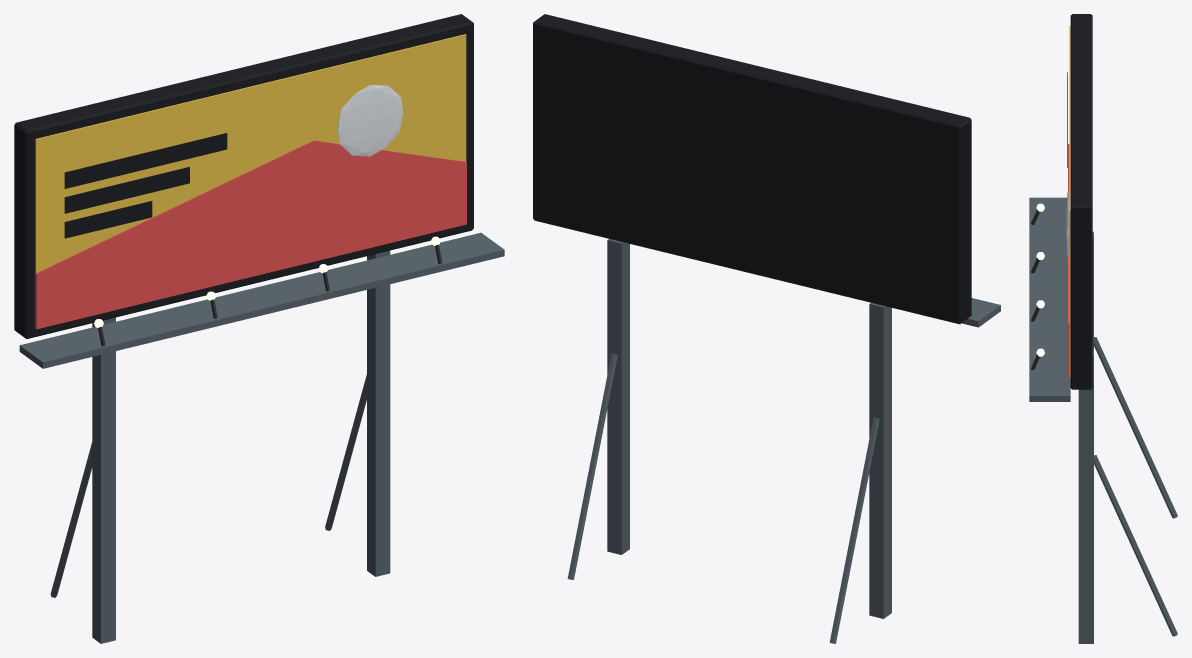
The model's file is billboard.glb.
3 renders of one model, left to right at view 1: azimuth 30°, elevation 25°; view 2: azimuth 150°, elevation 25°; view 3: azimuth 270°, elevation 25°, orthographic. The views are drawn at different scales.
Visible parts, largest first — view 1: billboard; view 2: billboard; view 3: billboard.
Part boxes in pixels (x1,y1,x2,y2): billboard: (14, 14, 504, 643); billboard: (533, 14, 1000, 643); billboard: (1029, 14, 1177, 643).
Size of the model in its own units: 7.4 by 8.2 by 2.34.
